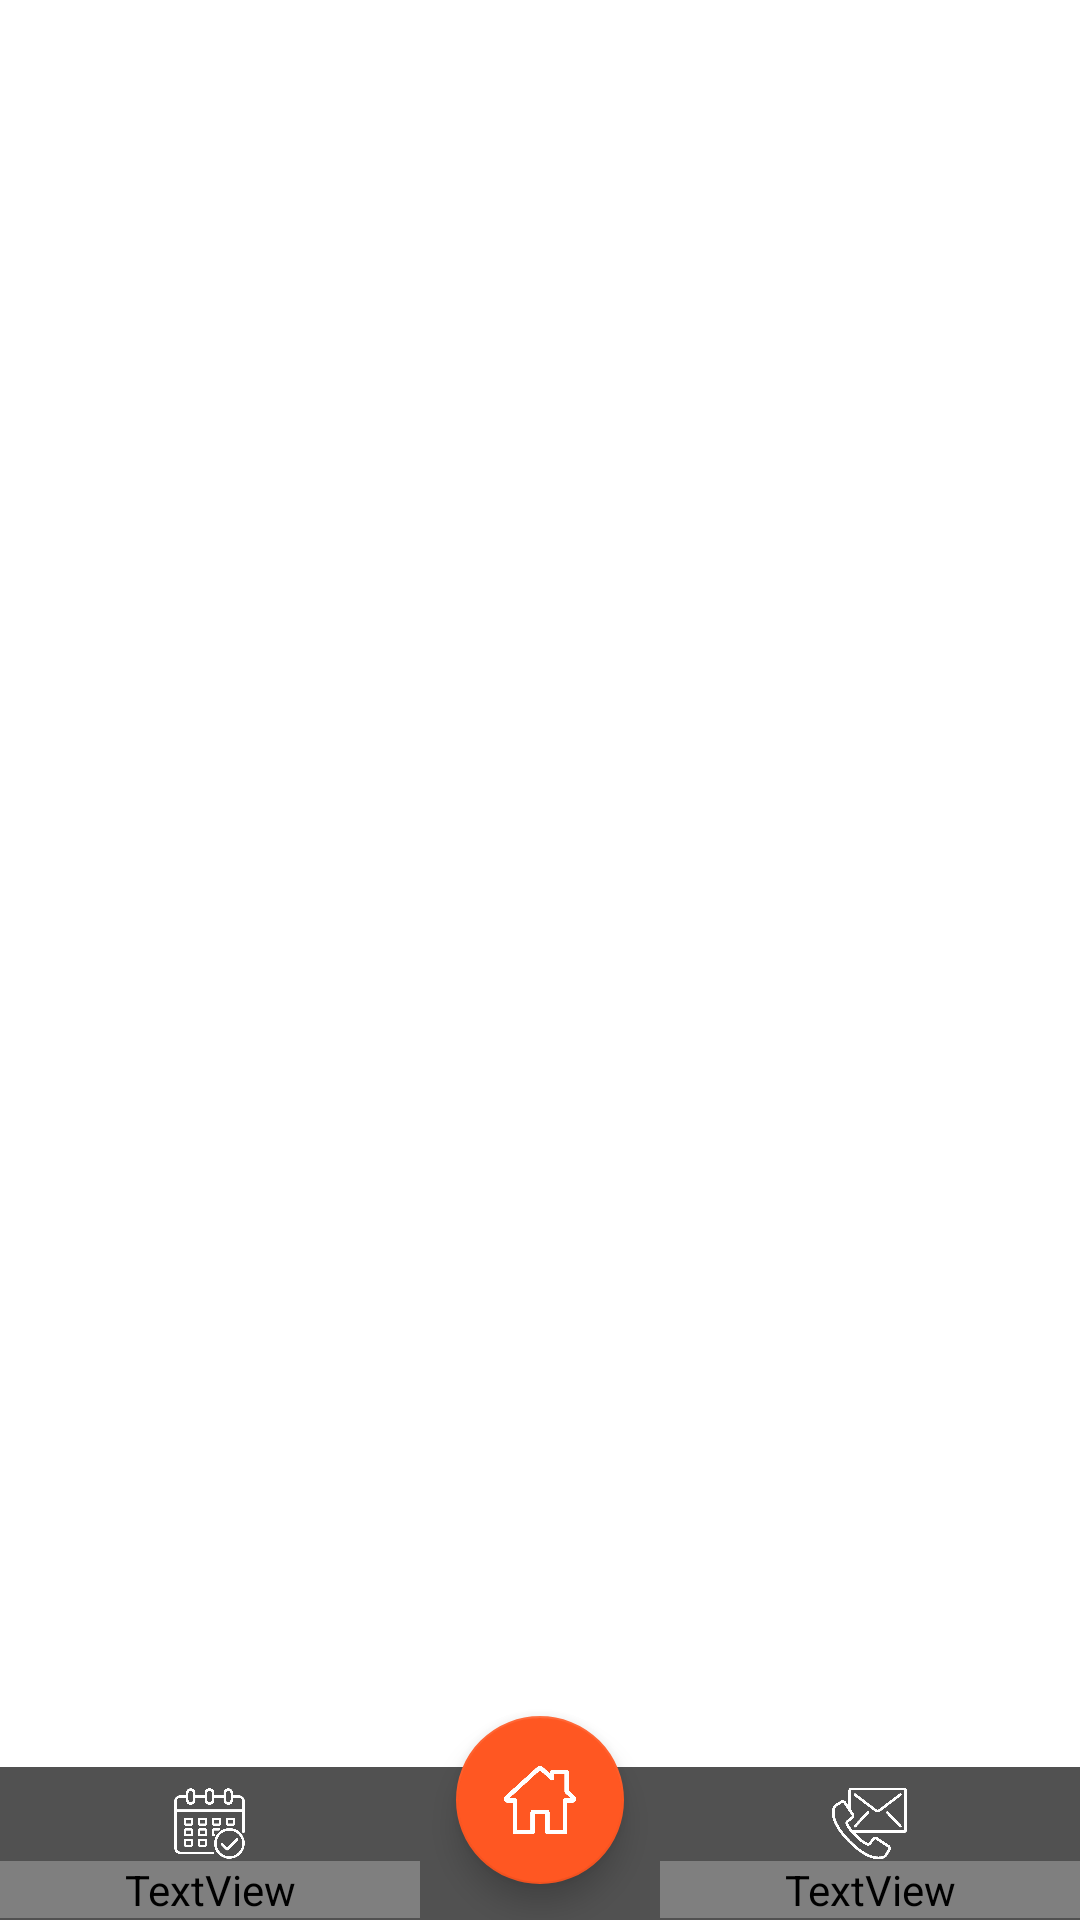

Icon click points for this 1080w x 1920h phone screenshot, format point (x, y):
home: point (540, 1800)
